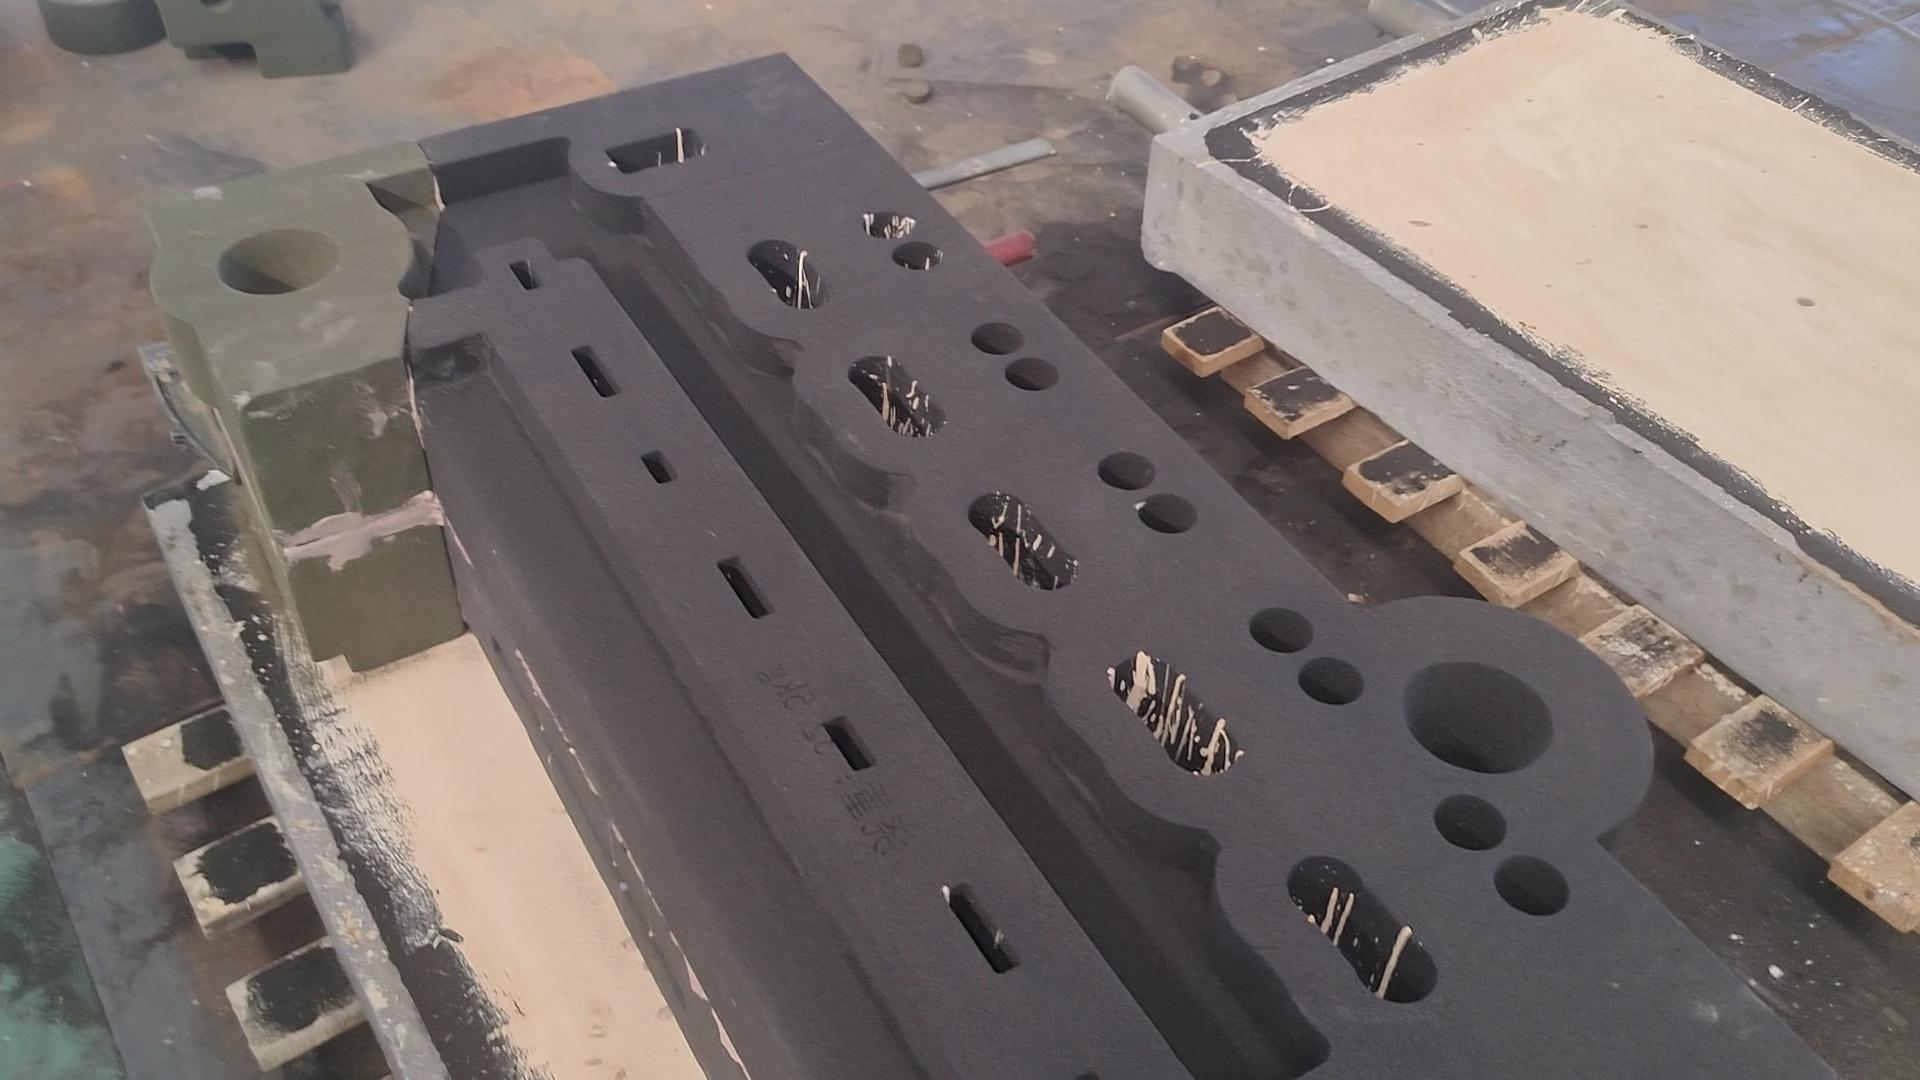pouring hole: (1399, 662, 1555, 774), (215, 225, 335, 295)
